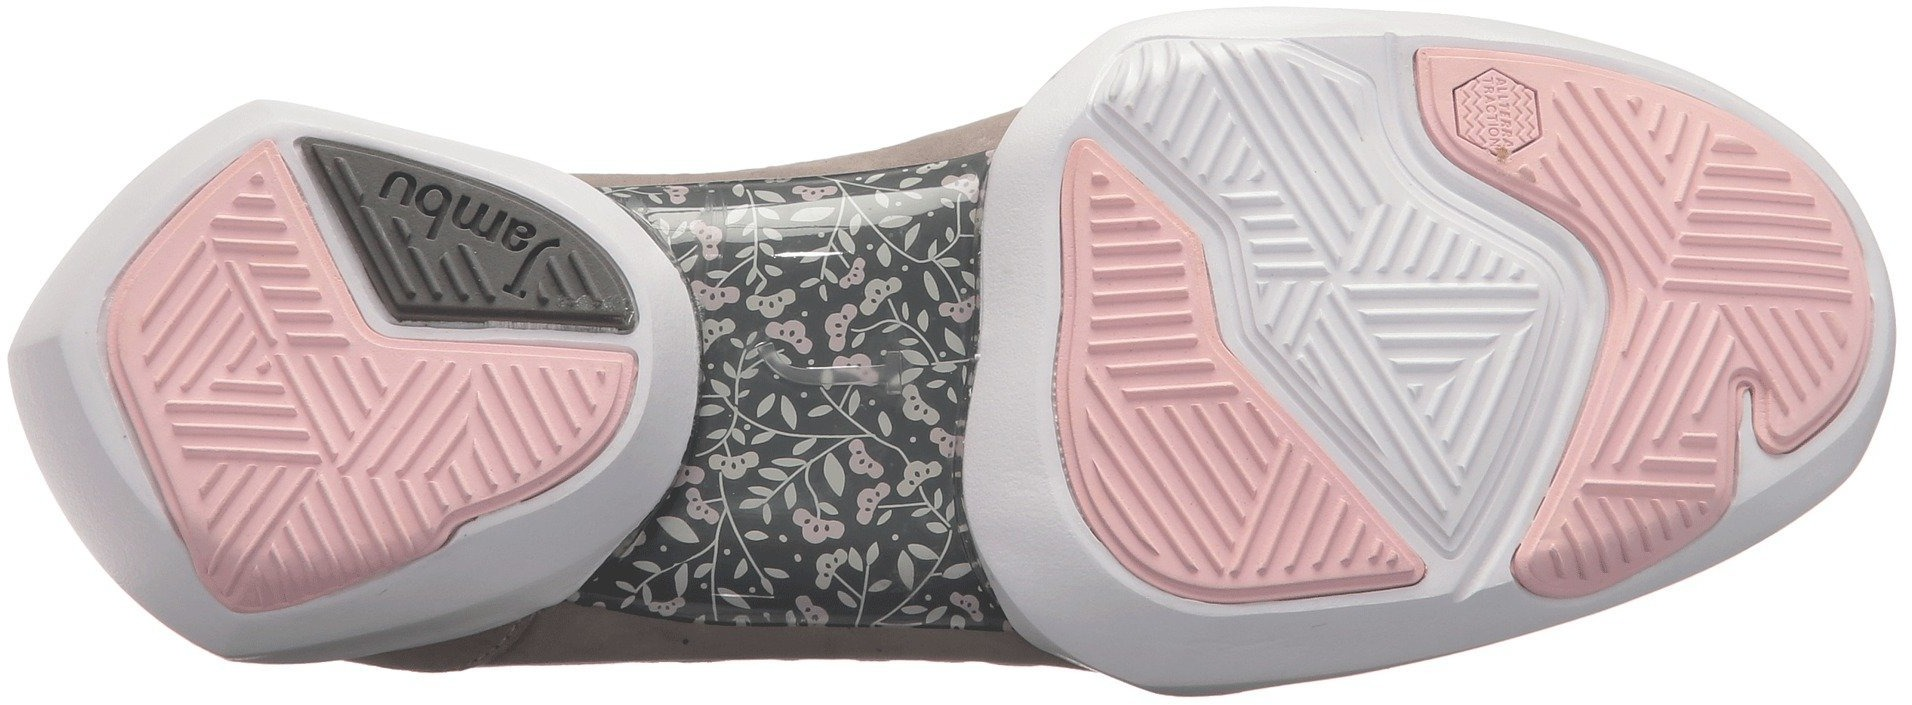chevron: (1072, 159, 1444, 485), (1443, 161, 1775, 485)
line: (1072, 159, 1444, 485), (1443, 161, 1775, 485)
polygon: (1445, 59, 1550, 165)
triangle: (1072, 159, 1444, 485), (1373, 352, 1450, 440)
